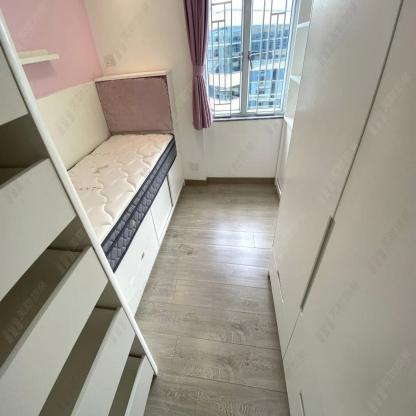Bed: (65, 70, 186, 316)
Closet: (268, 0, 416, 415)
